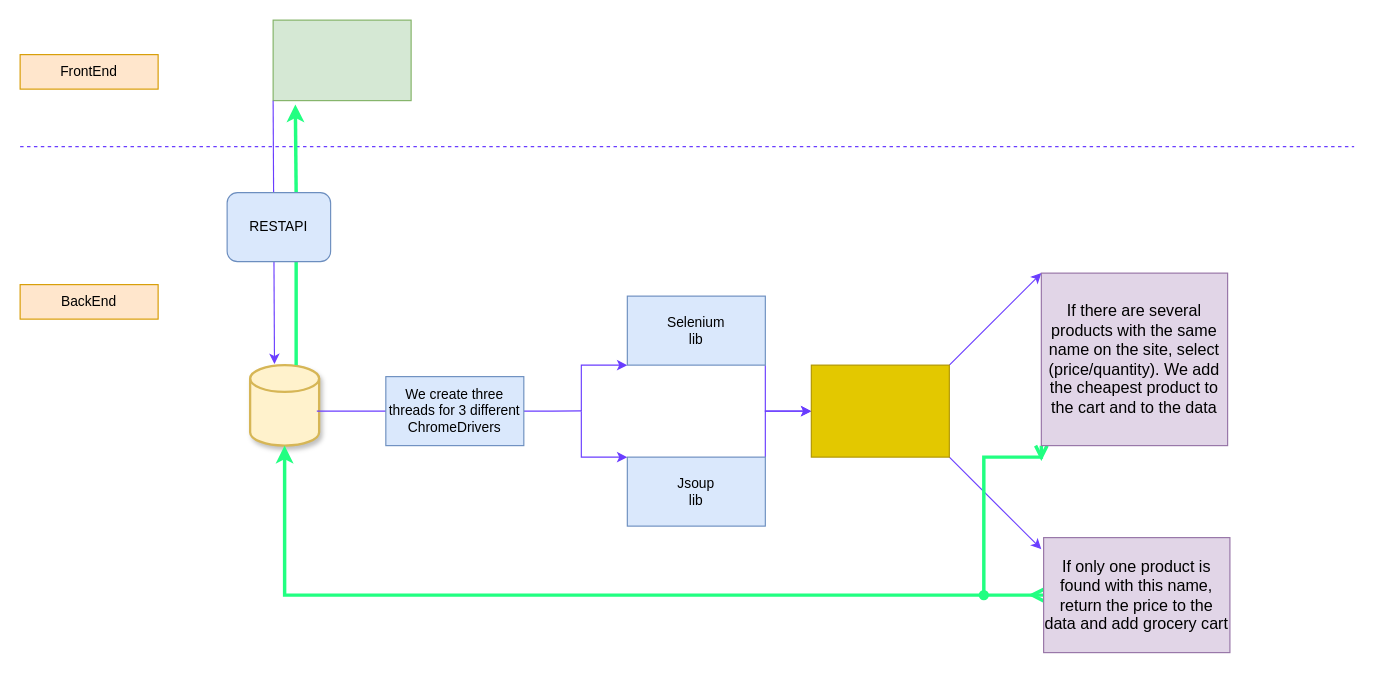
Image size: 1375x673. Some labels were removed from this diagram. Each missing label, with the centre of its shape:
"Grocery list Data" belongs at (285,406).
"Page with Grocery list" belongs at (341,60).
"Search products on the page" belongs at (879,410).
